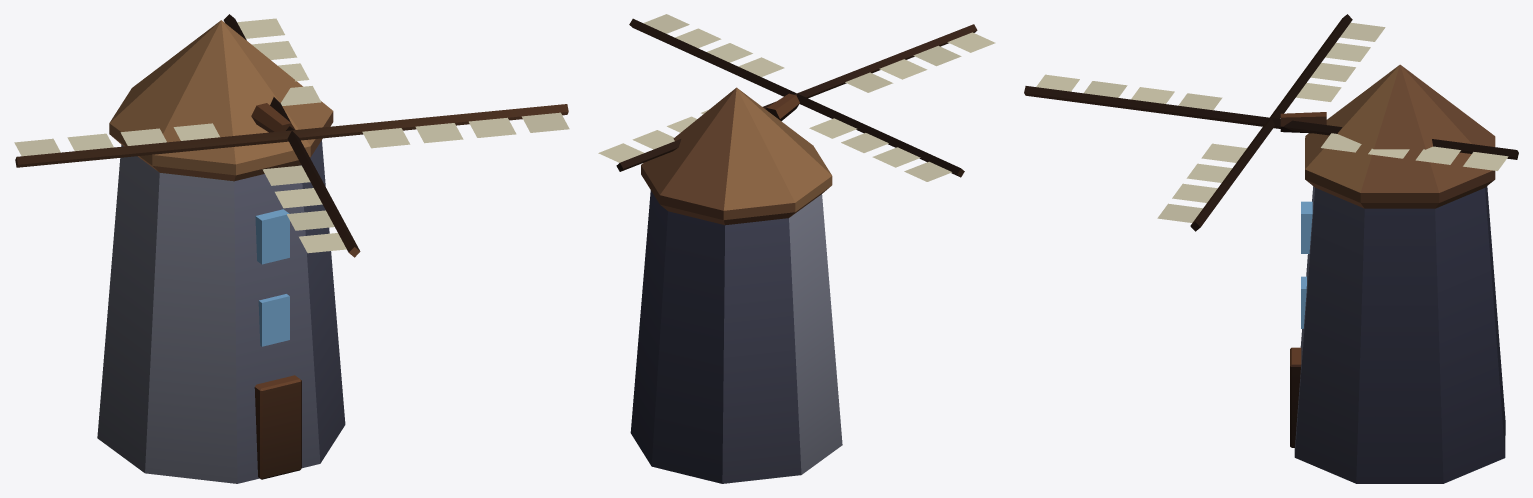
The model's file is windmill.glb.
3 views of the same model, side by side, from view 1: azimuth 30°, elevation 25°; view 2: azimuth 150°, elevation 25°; view 3: azimuth 270°, elevation 25° (orthographic). The views are drawn at different scales.
Visible parts, largest first — view 1: windmill; view 2: windmill; view 3: windmill.
Boxes of the visible parts, left/top/right/bottom form: windmill: left=14, top=14, right=569, bottom=483; windmill: left=598, top=14, right=995, bottom=483; windmill: left=1024, top=14, right=1518, bottom=483.
Size of the model in its own units: 2.69 by 2.25 by 2.69.
